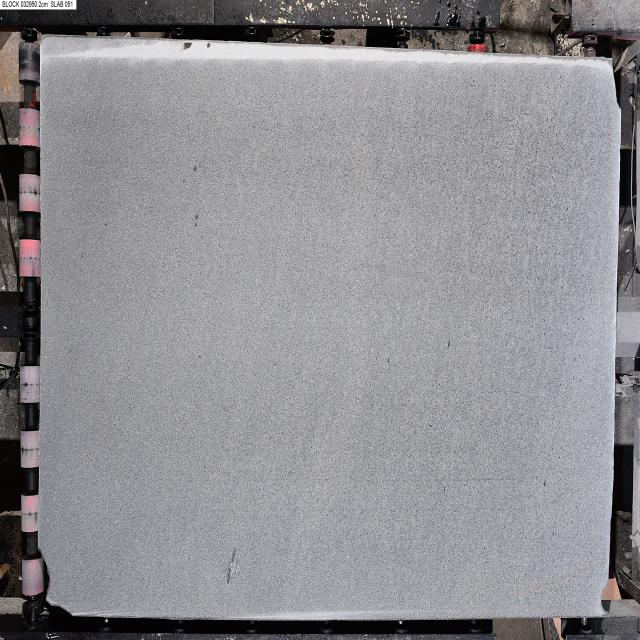chapa: (39, 36, 620, 621)
